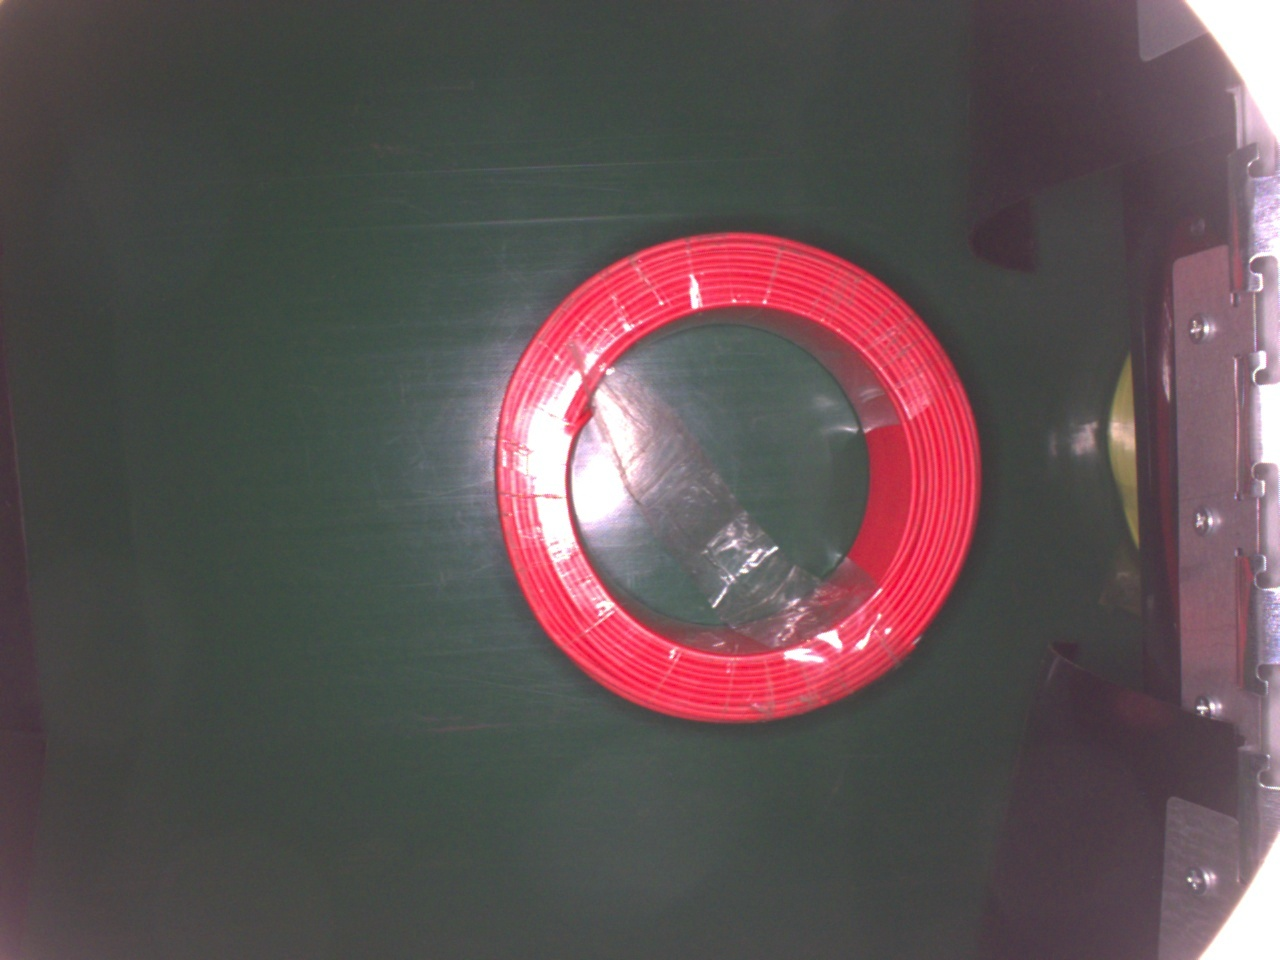red: (496, 227, 980, 721)
